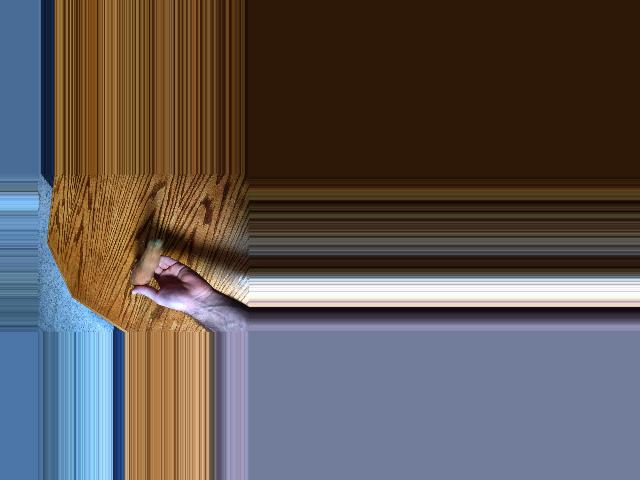sweet_potato: (131, 238, 165, 289)
